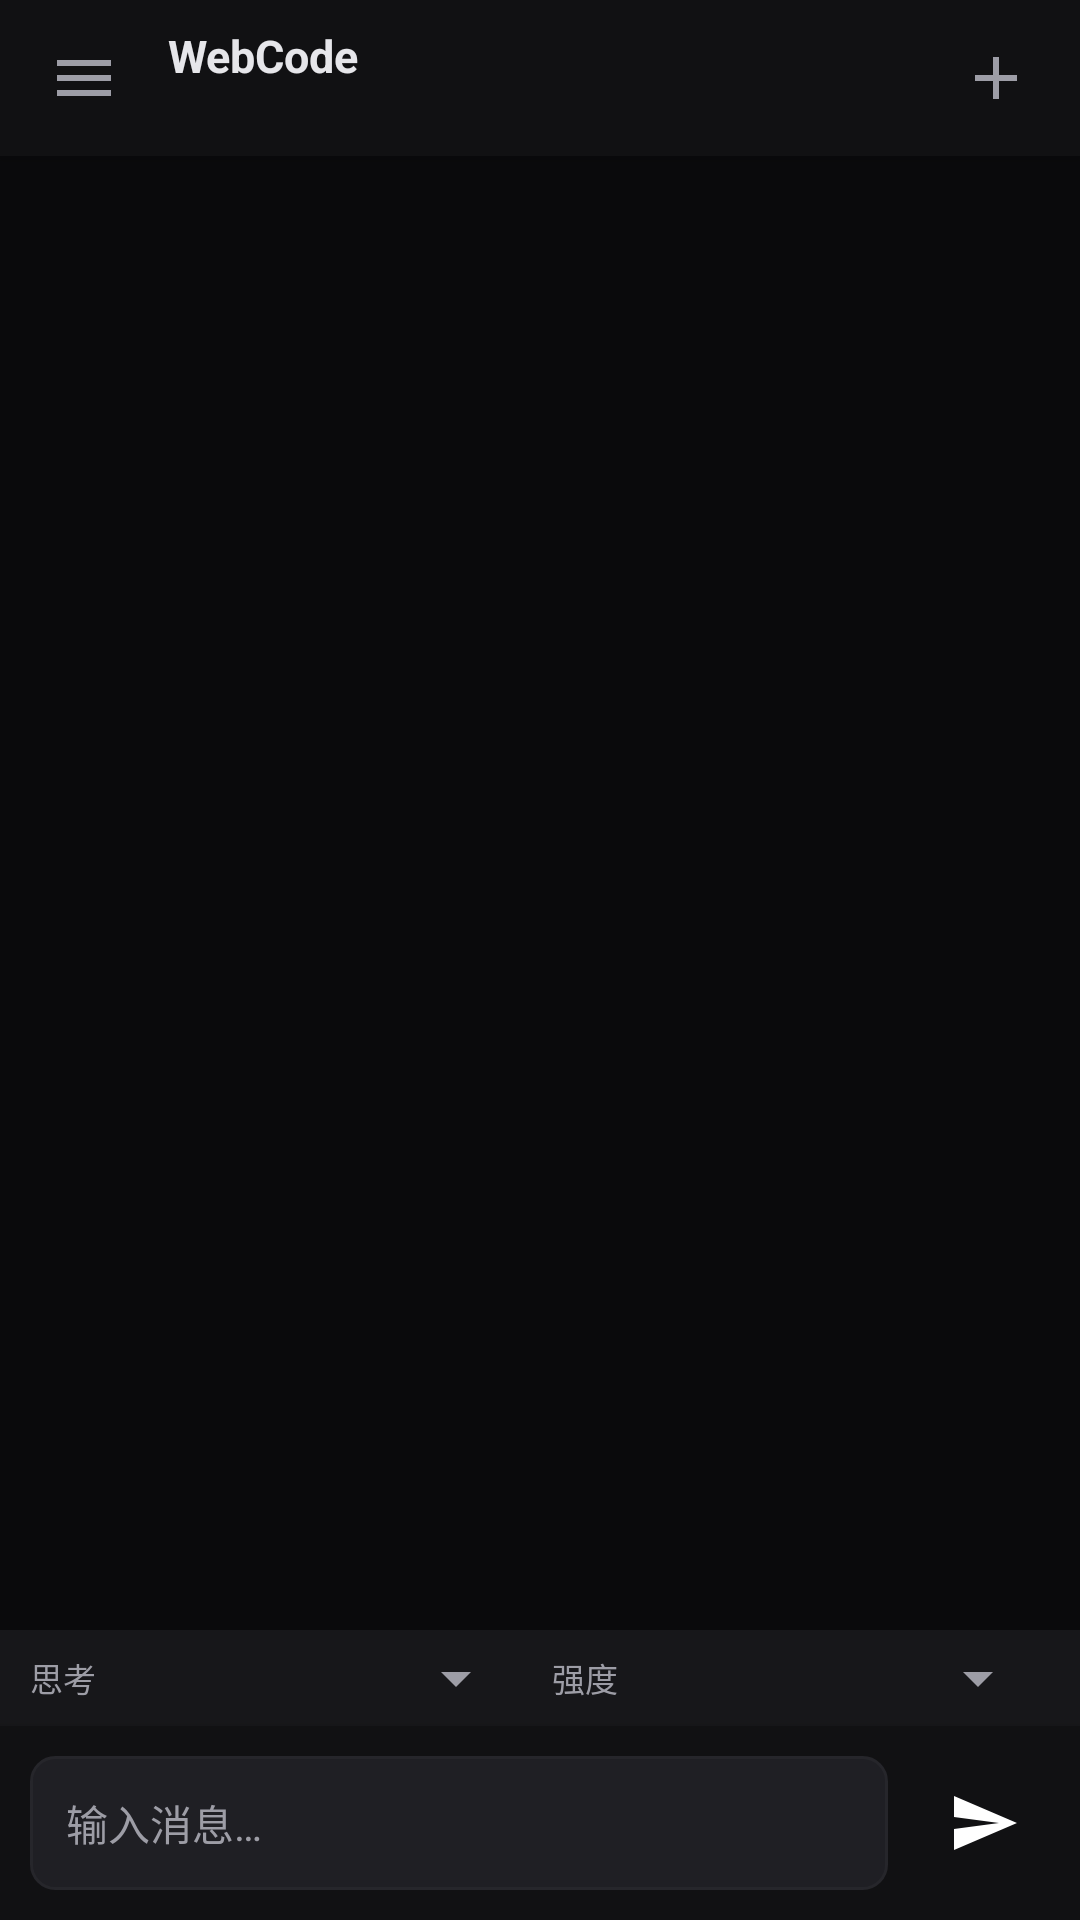

Screen size 1080*1920. Icon name, then its box in pixels as box(x1, y1, x2, y2):
发送: box(954, 1796, 1017, 1850)
新对话: box(975, 57, 1017, 99)
菜单: box(57, 60, 111, 96)
